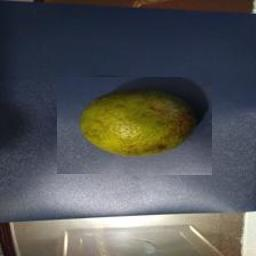Orange Semirotten: (57, 78, 212, 176)
